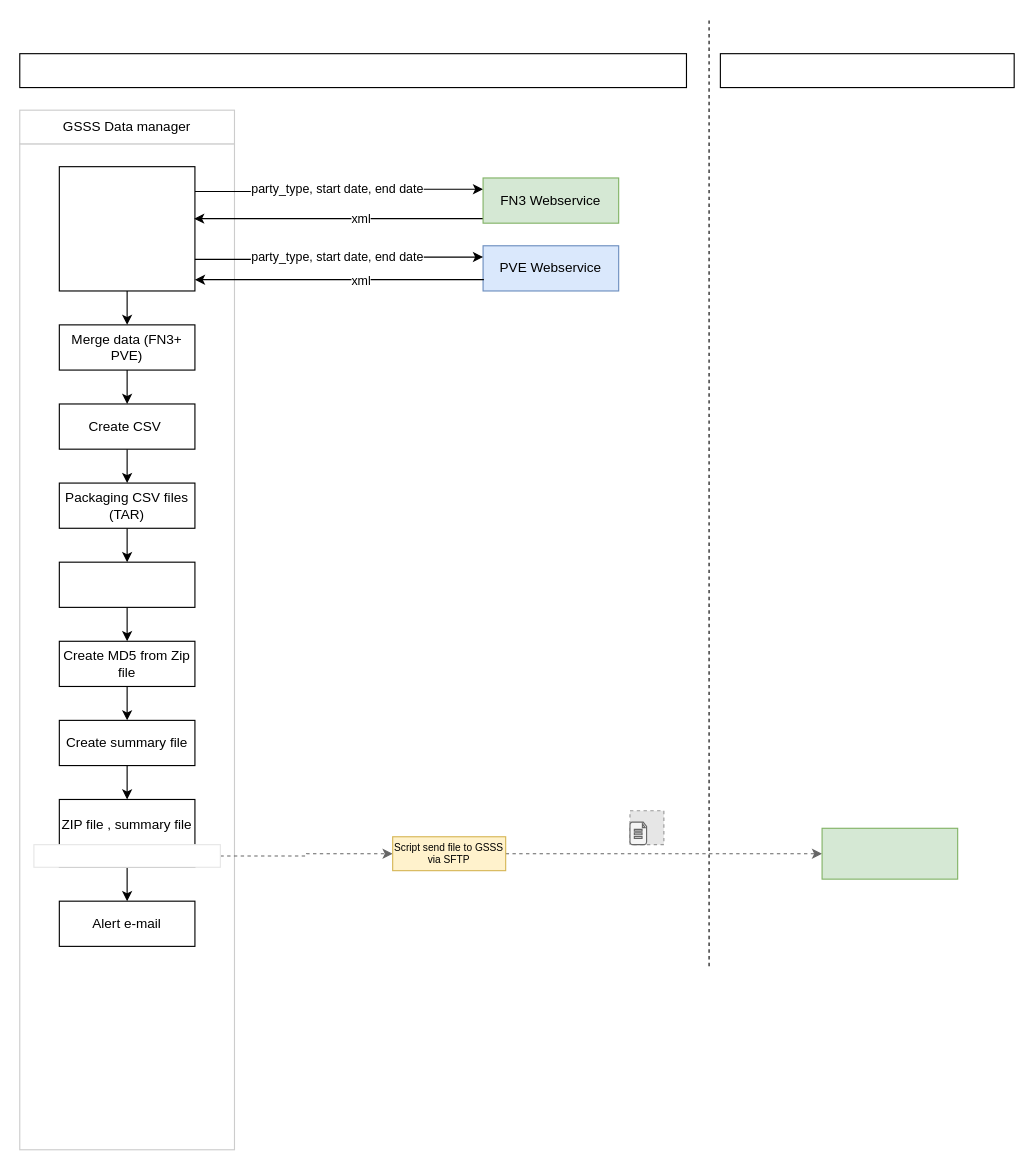
This 1034x1170 diagram has some shape labels left out. Grey dashed boxes stand in for pictures. Each missing label, with the centre of its shape:
"/appl/tomcat/tomcat-GSSS/app/outFile/" belongs at [126,855].
"AZ Tech" belongs at [352,70].
"GSSS" belongs at [866,70].
"GSSS FTP" belongs at [889,853].
"Retrieve data" belongs at [126,228].
"Zip the TAR file" belongs at [126,584].
